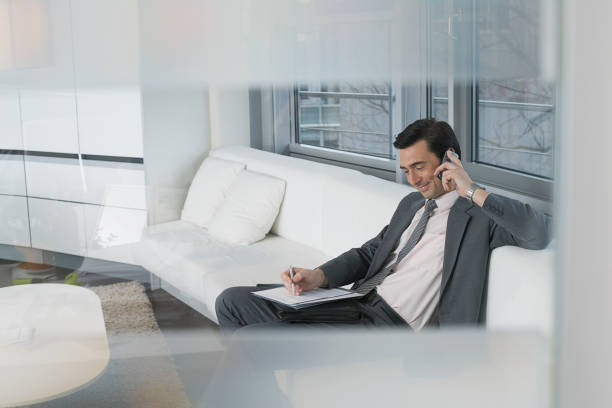phone: (434, 146, 463, 192)
talk: (393, 143, 472, 206)
